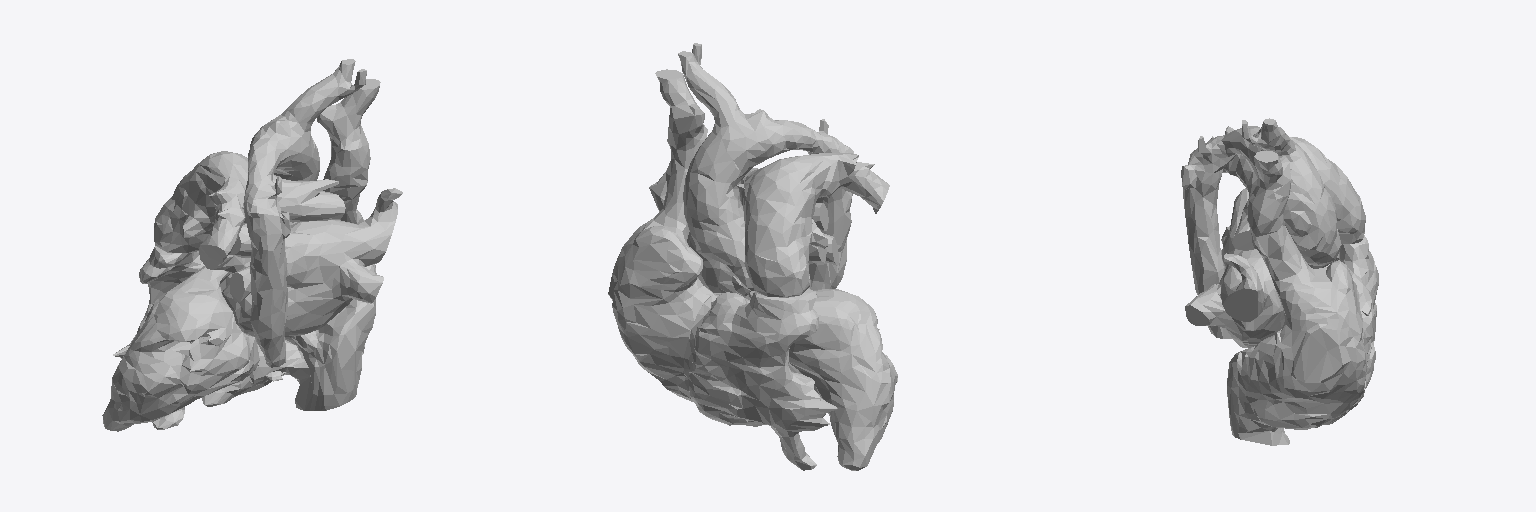
File: 2018014-01LeftAtriumlowres.obj
3 views of the same model, side by side, from view 1: azimuth 30°, elevation 25°; view 2: azimuth 150°, elevation 25°; view 3: azimuth 270°, elevation 25° (orthographic).
Visible parts, largest first — view 1: Ccase_002_Lv_Remeshed_Reduced90_Smoothed_Aligned, Ccase_002_Ao_Remeshed_Reduced90_Smoothed_Aligned, Ccase_002_La_Remeshed_Reduced90_Smoothed_Aligned, Ccase_002_Ra_Remeshed_Reduced90_Smoothed_Aligned, Ccase_002_Pa_Remeshed_Reduced90_Smoothed_Aligned, Ccase_002_Rv_Remeshed_Reduced90_Smoothed_Aligned; view 2: Ccase_002_Rv_Remeshed_Reduced90_Smoothed_Aligned, Ccase_002_Ra_Remeshed_Reduced90_Smoothed_Aligned, Ccase_002_Ao_Remeshed_Reduced90_Smoothed_Aligned, Ccase_002_Pa_Remeshed_Reduced90_Smoothed_Aligned, Ccase_002_Lv_Remeshed_Reduced90_Smoothed_Aligned, Ccase_002_La_Remeshed_Reduced90_Smoothed_Aligned; view 3: Ccase_002_Ra_Remeshed_Reduced90_Smoothed_Aligned, Ccase_002_Ao_Remeshed_Reduced90_Smoothed_Aligned, Ccase_002_La_Remeshed_Reduced90_Smoothed_Aligned, Ccase_002_Pa_Remeshed_Reduced90_Smoothed_Aligned, Ccase_002_Rv_Remeshed_Reduced90_Smoothed_Aligned.
Boxes of the visible parts, <box> form: Ccase_002_Lv_Remeshed_Reduced90_Smoothed_Aligned: <box>102,266,259,431</box>; Ccase_002_Ao_Remeshed_Reduced90_Smoothed_Aligned: <box>243,59,366,367</box>; Ccase_002_La_Remeshed_Reduced90_Smoothed_Aligned: <box>199,188,402,336</box>; Ccase_002_Ra_Remeshed_Reduced90_Smoothed_Aligned: <box>285,79,380,410</box>; Ccase_002_Pa_Remeshed_Reduced90_Smoothed_Aligned: <box>154,151,345,263</box>; Ccase_002_Rv_Remeshed_Reduced90_Smoothed_Aligned: <box>113,246,286,429</box>; Ccase_002_Rv_Remeshed_Reduced90_Smoothed_Aligned: <box>689,289,837,470</box>; Ccase_002_Ra_Remeshed_Reduced90_Smoothed_Aligned: <box>608,69,721,402</box>; Ccase_002_Ao_Remeshed_Reduced90_Smoothed_Aligned: <box>678,43,853,295</box>; Ccase_002_Pa_Remeshed_Reduced90_Smoothed_Aligned: <box>736,153,889,297</box>; Ccase_002_Lv_Remeshed_Reduced90_Smoothed_Aligned: <box>749,289,897,470</box>; Ccase_002_La_Remeshed_Reduced90_Smoothed_Aligned: <box>649,170,838,299</box>; Ccase_002_Ra_Remeshed_Reduced90_Smoothed_Aligned: <box>1227,151,1366,445</box>; Ccase_002_Ao_Remeshed_Reduced90_Smoothed_Aligned: <box>1181,118,1341,338</box>; Ccase_002_La_Remeshed_Reduced90_Smoothed_Aligned: <box>1185,188,1284,347</box>; Ccase_002_Pa_Remeshed_Reduced90_Smoothed_Aligned: <box>1211,126,1365,250</box>; Ccase_002_Rv_Remeshed_Reduced90_Smoothed_Aligned: <box>1339,235,1378,411</box>.
Size of the model in its own units: 154 by 199 by 101.